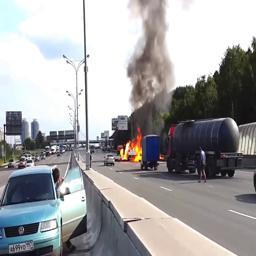fire: (121, 128, 143, 162)
